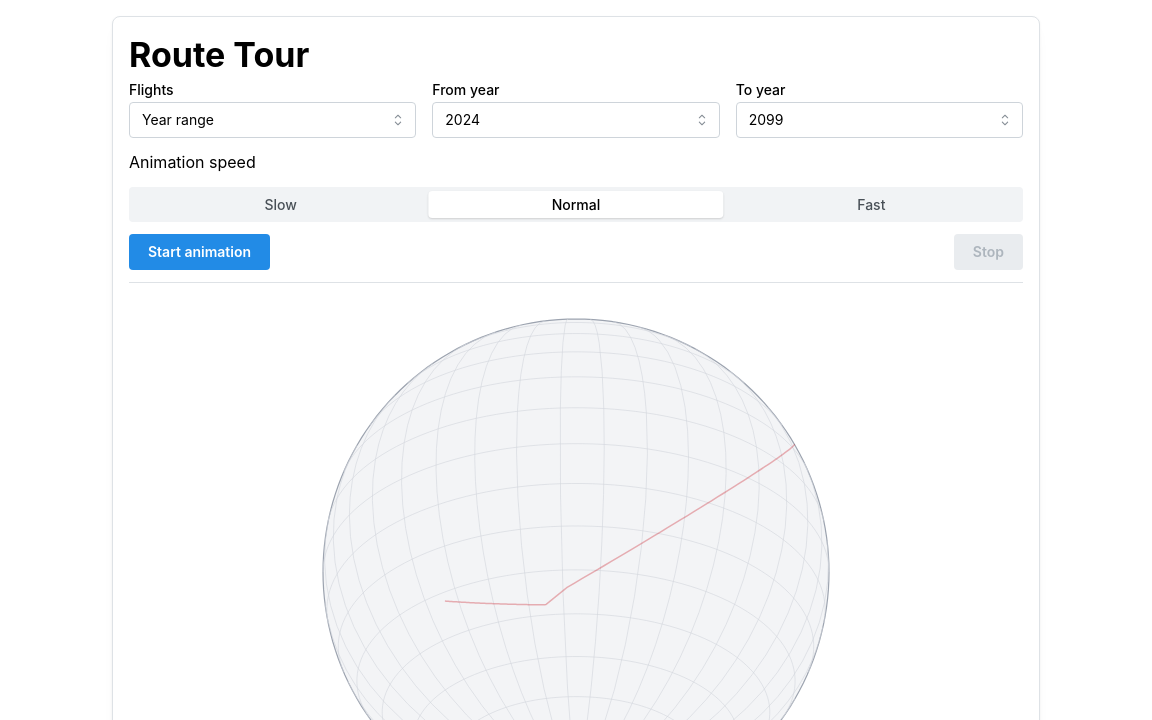
Test case: WorldTour › switches scope to past flights and hides year range controls
Expected: the dropdown labelled "From year" is shown, 432,102 -> 720,138
Expected: the dropdown labelled "To year" is shown, 736,102 -> 1023,138
Select "Past flights" in the dropdown labelled "Flights". click: (273, 120)
box: 129,102 -> 416,138
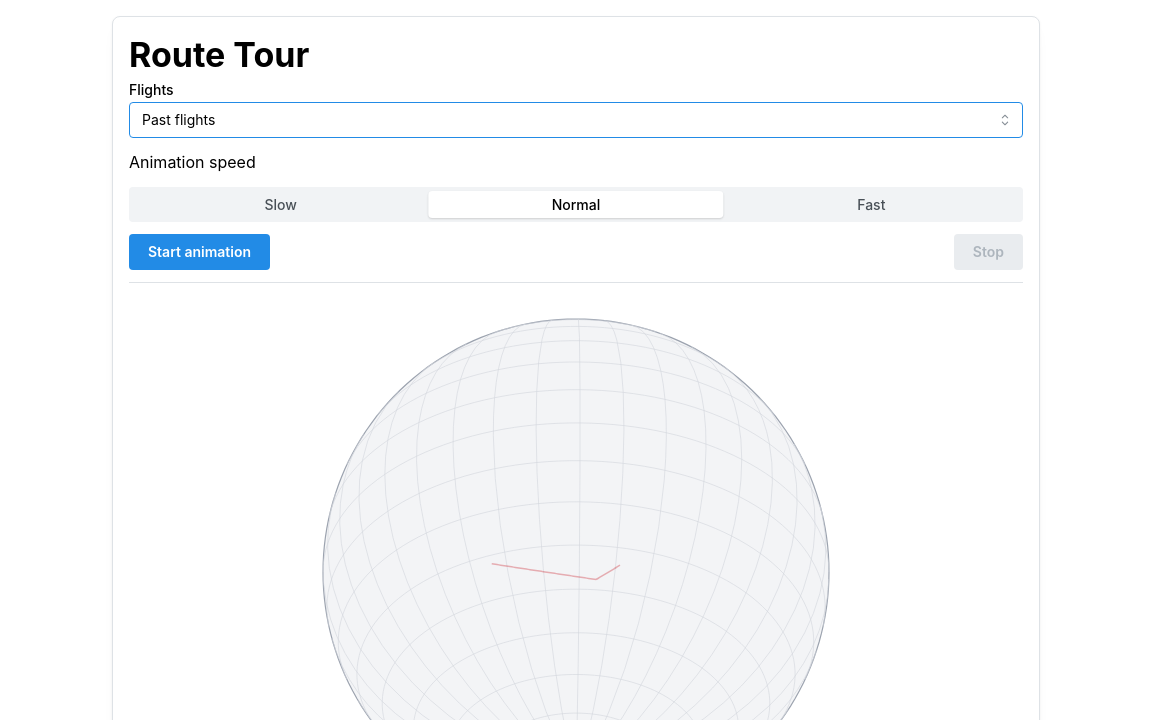
Expected: the label labelled "From year" is gone
Expected: the label labelled "To year" is gone
